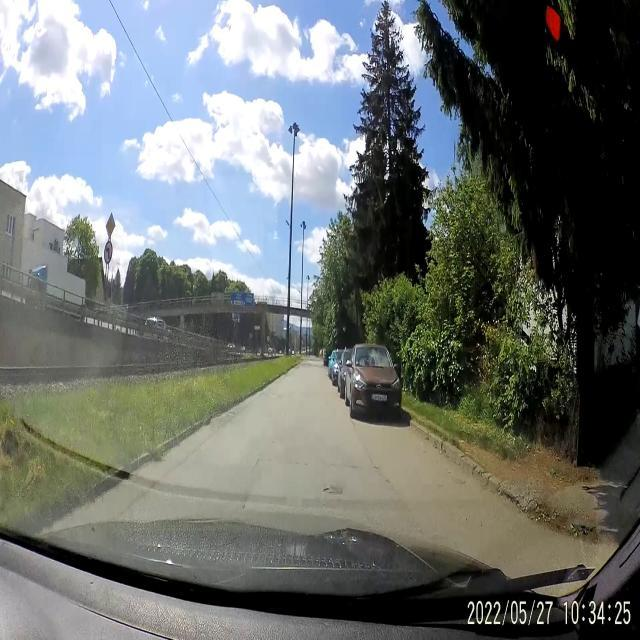Pothole: (320, 478, 344, 500)
